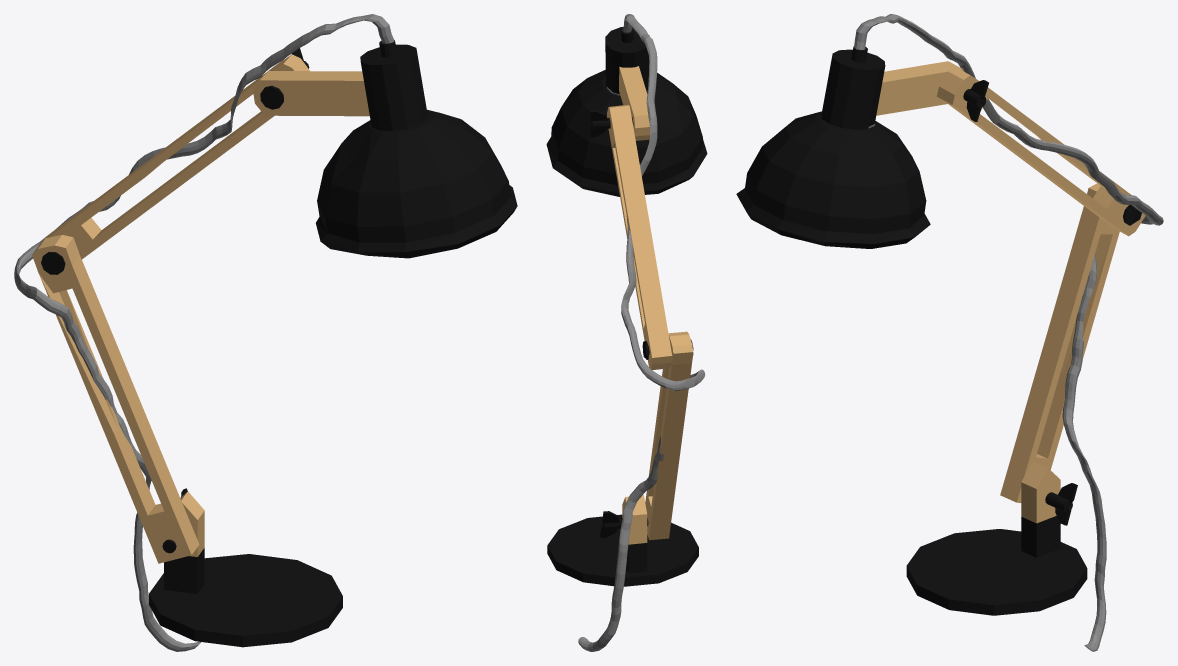
Rendered from lamp.glb.
The picture shows the model from 3 angles, left to right: view 1: azimuth 30°, elevation 25°; view 2: azimuth 150°, elevation 25°; view 3: azimuth 270°, elevation 25°; orthographic projection. The views are drawn at different scales.
Parts seen in each view (by area): view 1: node_MeshObject-118867968-PolyPaper21; view 2: node_MeshObject-118867968-PolyPaper21; view 3: node_MeshObject-118867968-PolyPaper21.
Boxes of the visible parts, x1=… form: node_MeshObject-118867968-PolyPaper21: x1=14, y1=14, x2=517, y2=651; node_MeshObject-118867968-PolyPaper21: x1=546, y1=14, x2=707, y2=651; node_MeshObject-118867968-PolyPaper21: x1=736, y1=14, x2=1163, y2=651.
Size of the model in its own units: 0.4036 by 0.8202 by 0.4819.
